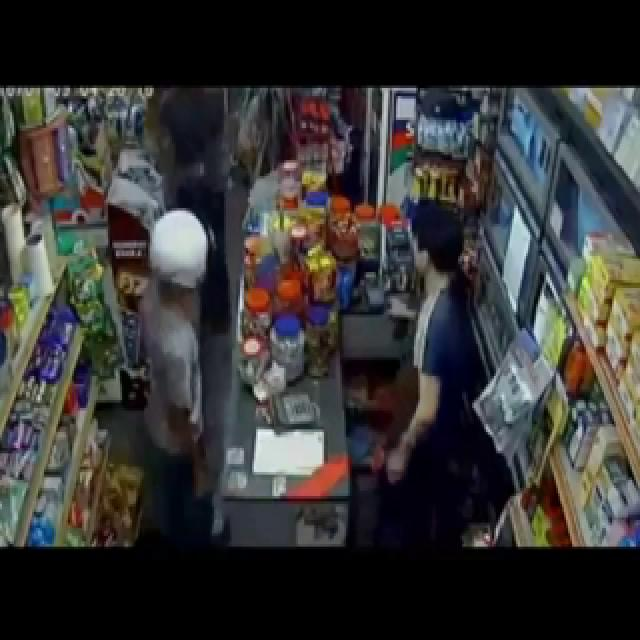robbery: (55, 124, 326, 541)
